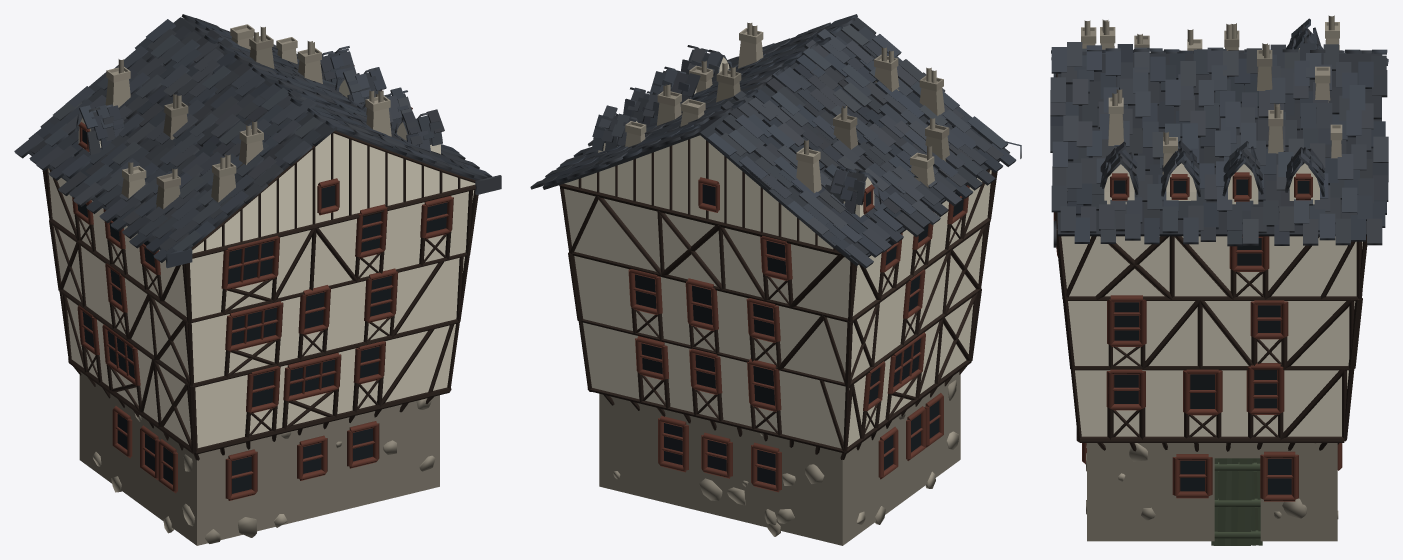
File: house_31.glb
3 renders of one model, left to right at view 1: azimuth 30°, elevation 25°; view 2: azimuth 150°, elevation 25°; view 3: azimuth 270°, elevation 25°, orthographic. The views are drawn at different scales.
Visible parts, largest first — view 1: house_31; view 2: house_31; view 3: house_31.
Boxes of the visible parts, x1,y1,x2,y2 form: house_31: (14, 14, 501, 545); house_31: (530, 14, 1021, 545); house_31: (1050, 15, 1388, 545).
Bounding box in the file's own units: 8.82 × 10.65 × 7.13.
